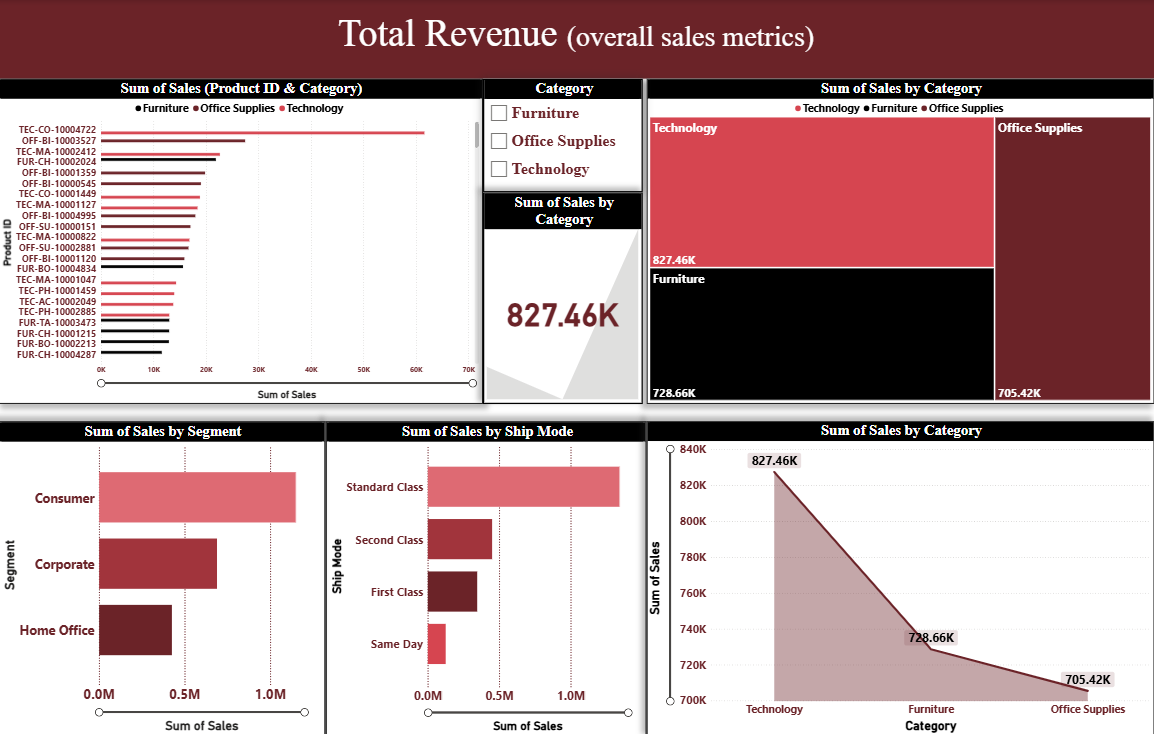

The page's visual inventory and layout, read from the dashboard file:
{"tool":"powerbi","page":{"name":"TOT_RV2","canvas":[2200,1400],"ordinal":1},"visuals":[{"type":"clusteredBarChart","fields":{"Category":["train (Cleaned).Ship Mode"],"Y":["Sum(train (Cleaned).Sales)"]},"box":[623,801.3,611.1,599.2],"z":0},{"type":"clusteredBarChart","fields":{"Category":["train (Cleaned).Segment"],"Y":["Sum(train (Cleaned).Sales)"]},"box":[0,801.3,623,599.2],"z":1000},{"type":"areaChart","fields":{"Category":["train (Cleaned).Category"],"Y":["Sum(train (Cleaned).Sales)"]},"box":[1234,801.3,965.4,599.2],"z":2000},{"type":"textbox","box":[0,0,2199.4,149.8],"z":3000},{"type":"clusteredBarChart","title":"Sum of Sales (Product ID & Category)","fields":{"Series":["train (Cleaned).Category"],"Category":["train (Cleaned).Product ID"],"Y":["Sum(train (Cleaned).Sales)"]},"box":[0,149.8,922.6,618.2],"z":4000},{"type":"treemap","fields":{"Group":["train (Cleaned).Category"],"Values":["Sum(train (Cleaned).Sales)"]},"box":[1234,149.8,965.4,618.2],"z":5000},{"type":"slicer","title":"Category","fields":{"Values":["train (Cleaned).Category"]},"box":[922.6,149.8,304.3,216.4],"z":6000},{"type":"kpi","fields":{"Indicator":["Sum(train (Cleaned).Sales)"],"TrendLine":["train (Cleaned).Category"]},"box":[923,366,304,402],"z":7000}]}

Visuals, with their boxes in screenshot pixels (x1, y1, x2, y2), scaled from the page's 2200x1400 canvas onto the 1154x734 screenshot:
clusteredBarChart - train (Cleaned).Ship Mode x Sum(train (Cleaned).Sales): detection(327, 420, 647, 733)
clusteredBarChart - train (Cleaned).Segment x Sum(train (Cleaned).Sales): detection(0, 420, 327, 733)
areaChart - train (Cleaned).Category x Sum(train (Cleaned).Sales): detection(647, 420, 1153, 733)
textbox: detection(0, 0, 1153, 79)
"Sum of Sales (Product ID & Category)" clusteredBarChart: detection(0, 79, 484, 403)
treemap - train (Cleaned).Category x Sum(train (Cleaned).Sales): detection(647, 79, 1153, 403)
"Category" slicer: detection(484, 79, 644, 192)
kpi - Sum(train (Cleaned).Sales) x train (Cleaned).Category: detection(484, 192, 644, 403)
